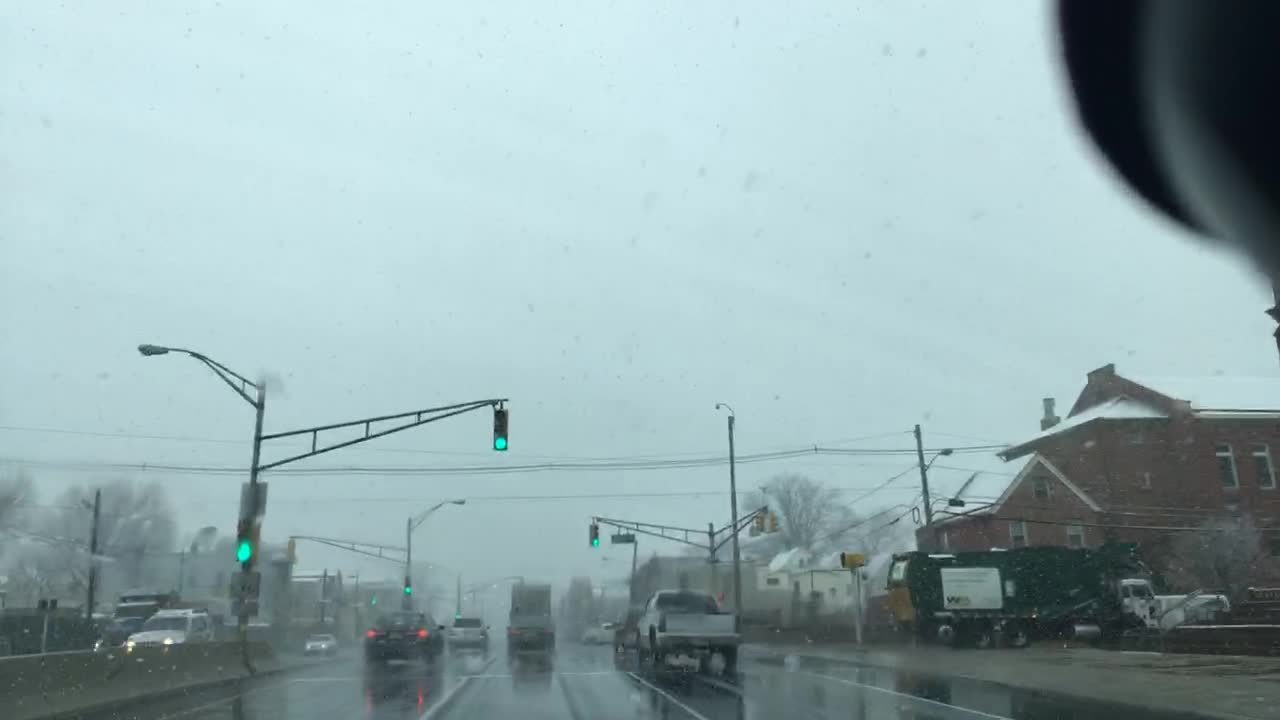car: (362, 607, 446, 661), (116, 607, 210, 649), (506, 614, 553, 649), (448, 614, 490, 651), (301, 631, 336, 654), (584, 624, 616, 645)
traffic light: (235, 519, 251, 561), (490, 409, 506, 451), (836, 551, 868, 567), (765, 504, 779, 533), (756, 509, 765, 533), (403, 575, 413, 595), (590, 525, 597, 549), (369, 591, 375, 607)
traffic sign: (237, 479, 266, 519), (231, 572, 259, 596), (228, 598, 261, 617), (614, 533, 633, 544)
truck: (884, 549, 1150, 646), (632, 589, 742, 673), (98, 591, 182, 658), (1116, 577, 1228, 626), (511, 579, 548, 617)
